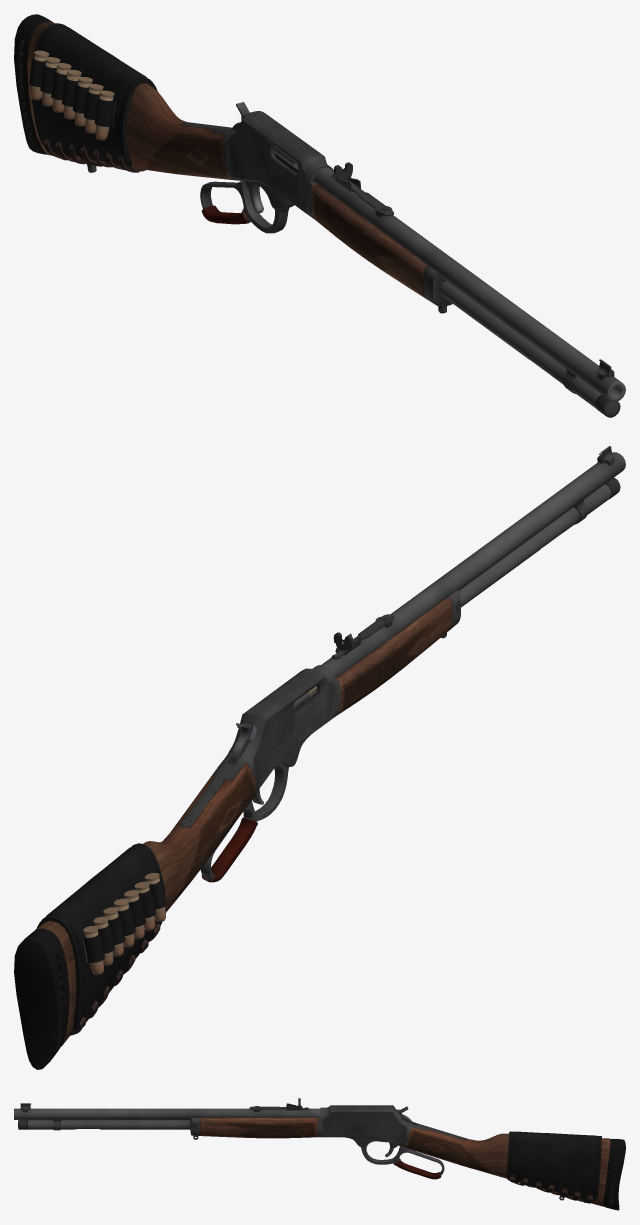
3 renders of one model, top to bottom at view 1: azimuth 30°, elevation 25°; view 2: azimuth 150°, elevation 25°; view 3: azimuth 270°, elevation 25°, orthographic. The views are drawn at different scales.
Parts seen in each view (by area): view 1: Object033_rifle_0, Object023tr_pat1_0, Object_rifle_0, Object035_rifle_0, Object034_rifle_0, Object037_bullets2_0, Object036_rifle_0; view 2: Object033_rifle_0, Object023tr_pat1_0, Object035_rifle_0, Object_rifle_0, Object034_rifle_0, Object037_bullets2_0, Object036_rifle_0; view 3: Object033_rifle_0, Object023tr_pat1_0, Object_rifle_0, Object035_rifle_0, Object034_rifle_0, Object036_rifle_0.
Part boxes in pixels (<box>): Object033_rifle_0: <box>27,21,452,306</box>; Object023tr_pat1_0: <box>29,23,157,172</box>; Object_rifle_0: <box>314,167,625,401</box>; Object035_rifle_0: <box>14,14,620,417</box>; Object034_rifle_0: <box>331,174,601,408</box>; Object037_bullets2_0: <box>30,50,114,140</box>; Object036_rifle_0: <box>201,146,614,379</box>; Object033_rifle_0: <box>34,590,460,1046</box>; Object023tr_pat1_0: <box>37,843,166,1035</box>; Object035_rifle_0: <box>14,452,620,1069</box>; Object_rifle_0: <box>321,452,625,678</box>; Object034_rifle_0: <box>331,484,611,659</box>; Object037_bullets2_0: <box>83,873,165,975</box>; Object036_rifle_0: <box>201,446,614,882</box>; Object033_rifle_0: <box>190,1105,610,1206</box>; Object023tr_pat1_0: <box>507,1131,601,1203</box>; Object_rifle_0: <box>14,1108,320,1119</box>; Object035_rifle_0: <box>18,1103,625,1210</box>; Object034_rifle_0: <box>28,1103,309,1129</box>; Object036_rifle_0: <box>20,1098,441,1179</box>.
Bounding box in the file's own units: 5.98 × 19.62 × 98.77.
3 materials, 3 textured.
